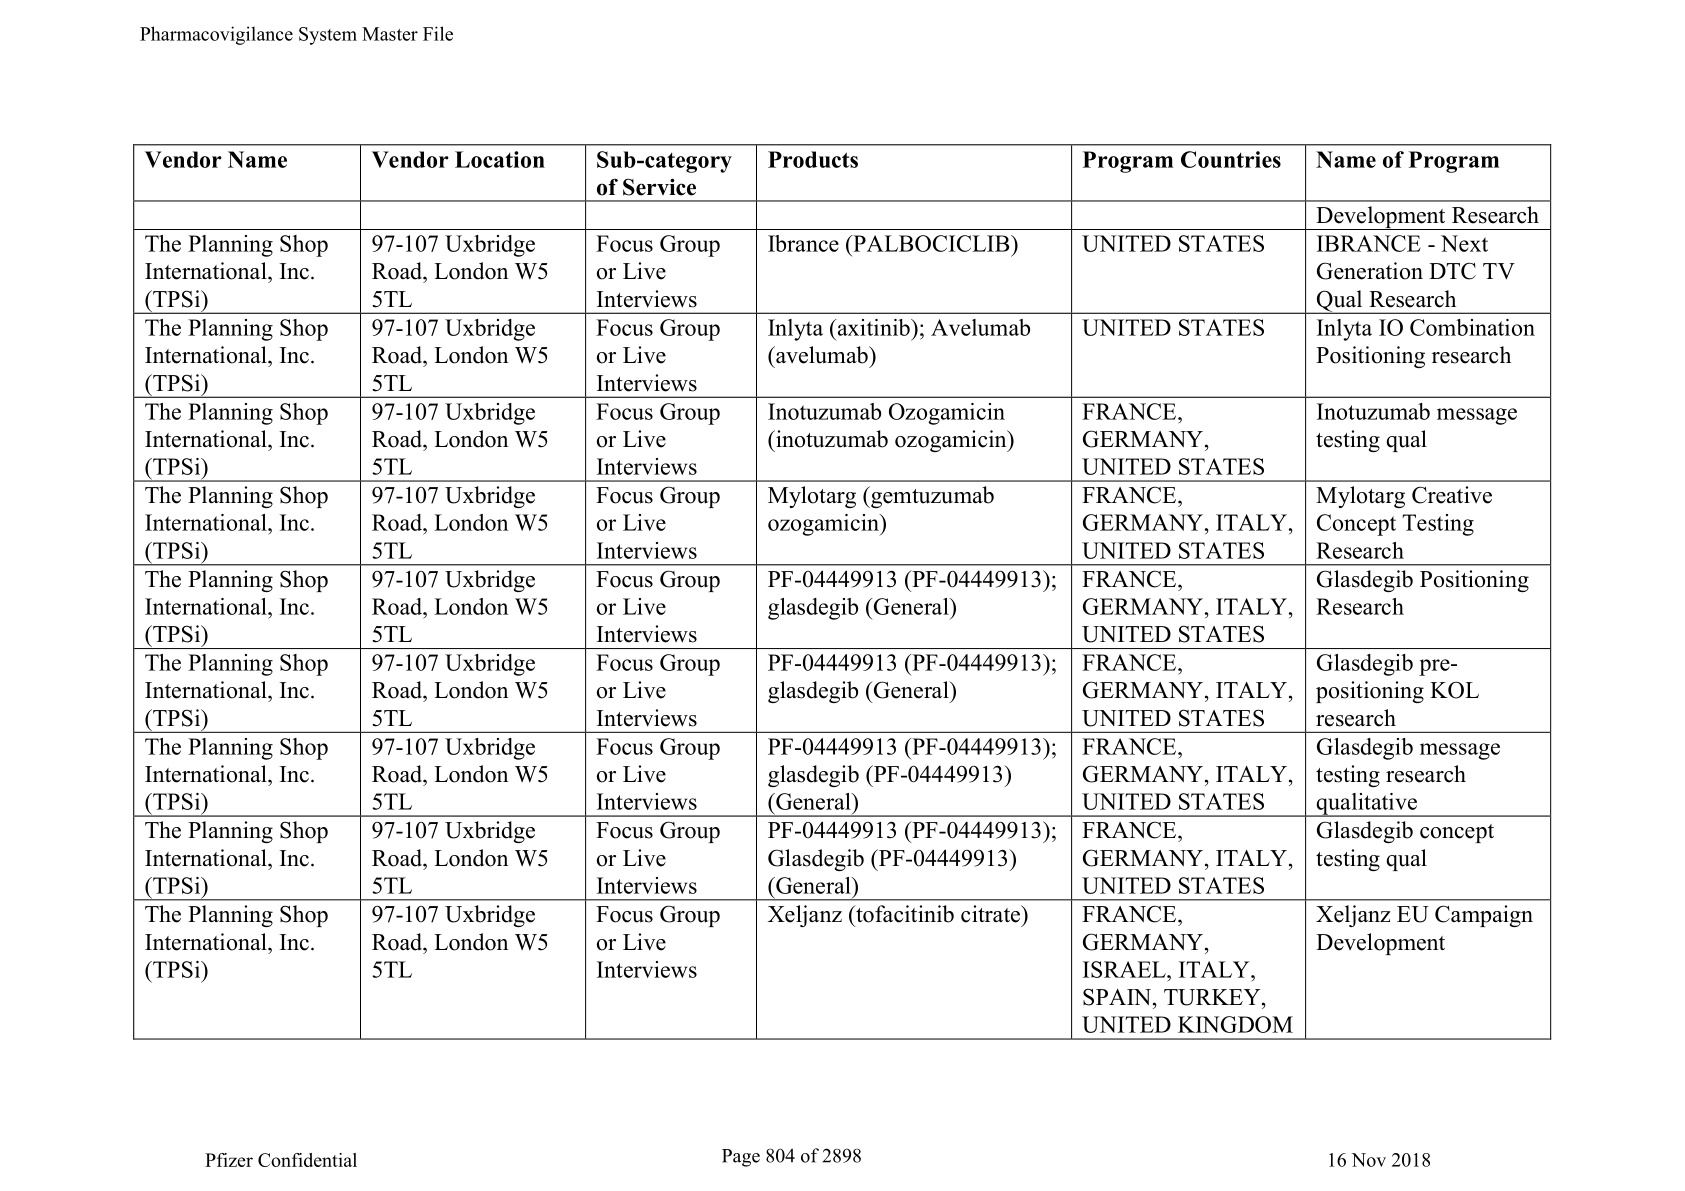full_lined: (133, 144, 1552, 1040)
